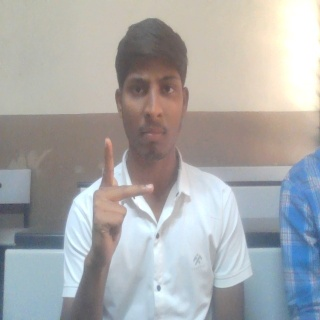Face: (113, 17, 190, 165)
Okay: (87, 136, 155, 266)
